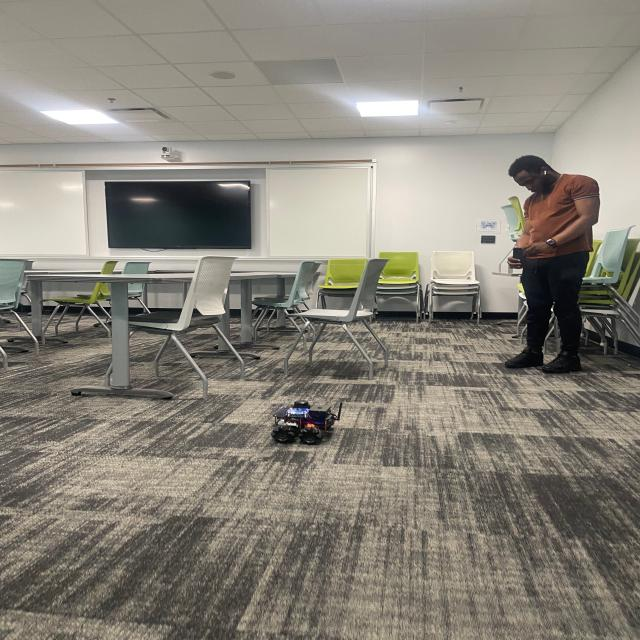ArduinoCar3: (262, 398, 348, 446)
